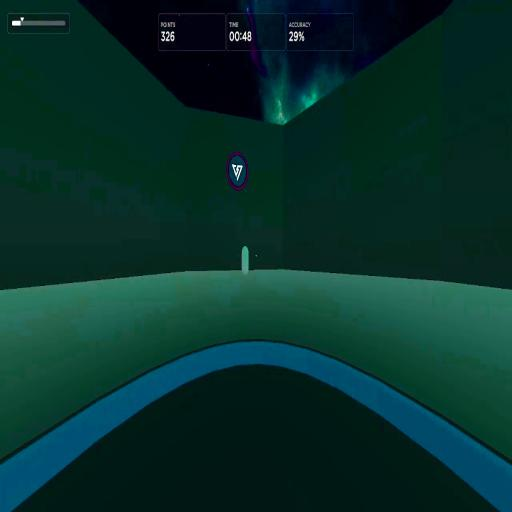Crosshair: (255, 254, 257, 257)
Target: (241, 245, 249, 277)
